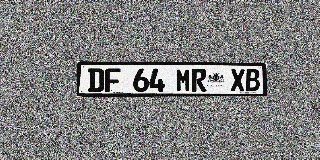plate: (77, 61, 267, 97)
